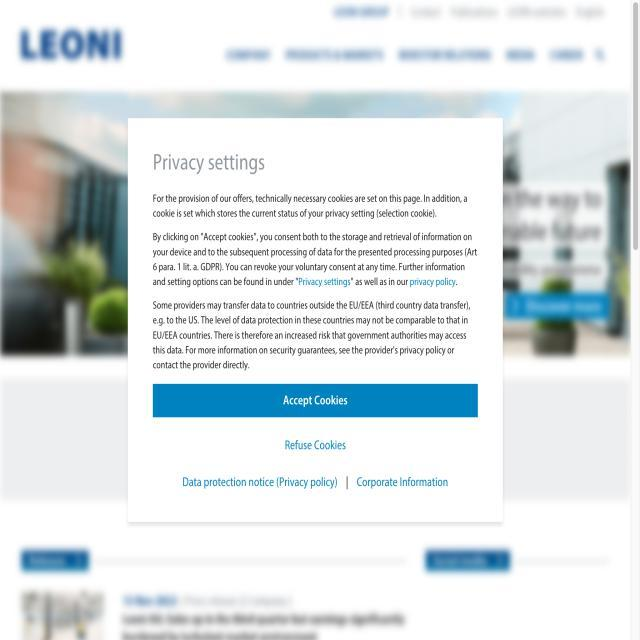button: (143, 380, 488, 424)
modal: (120, 108, 522, 536)
text: (145, 182, 483, 376)
